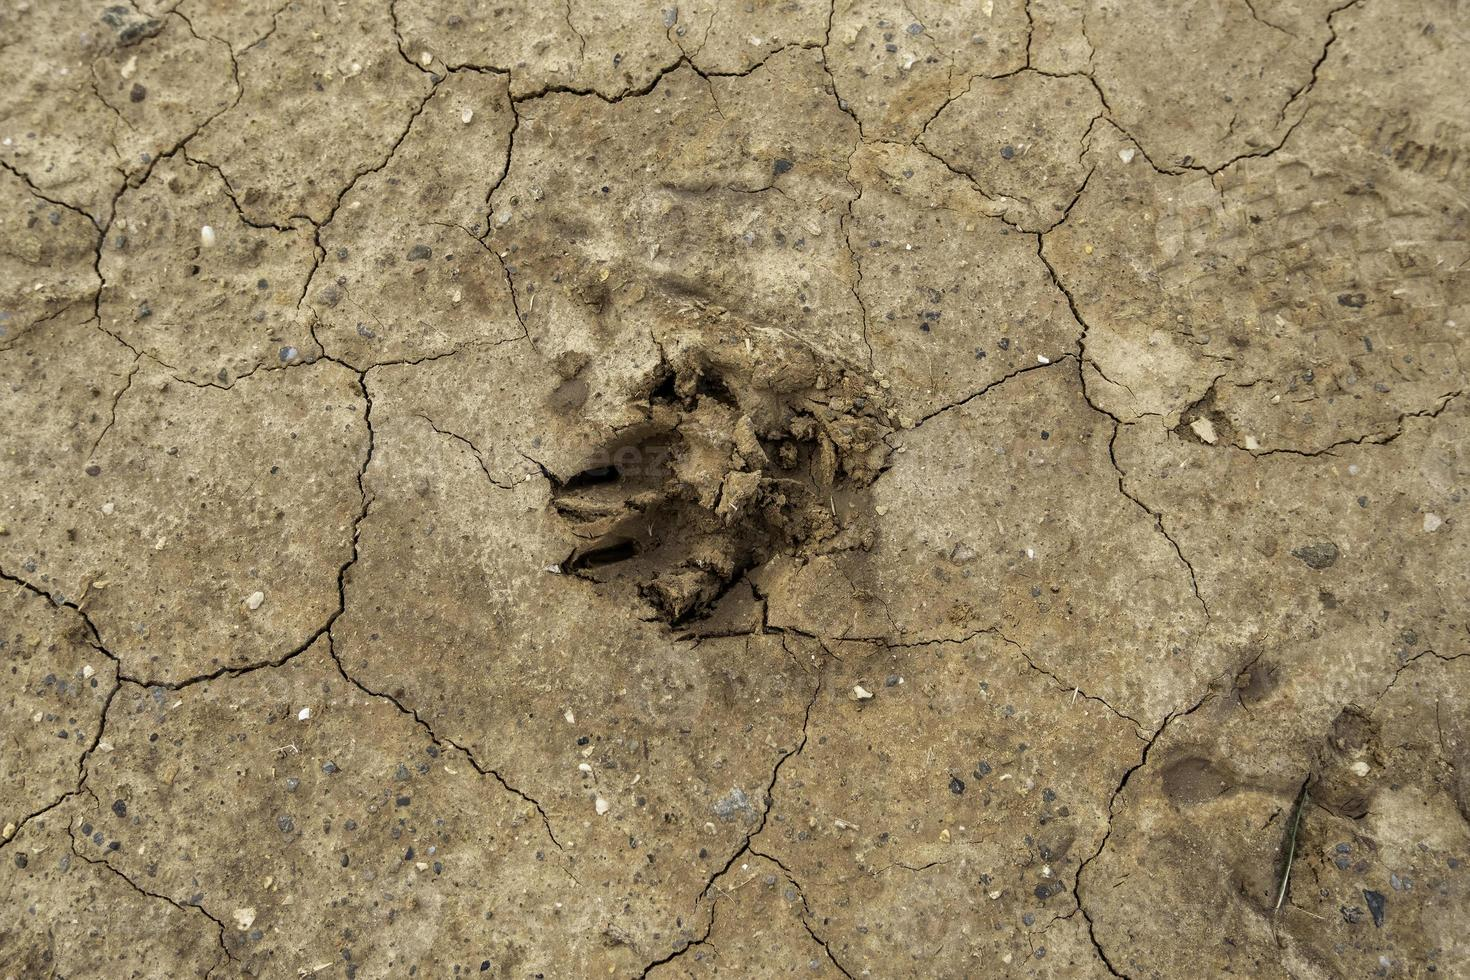chien: (538, 332, 877, 645)
